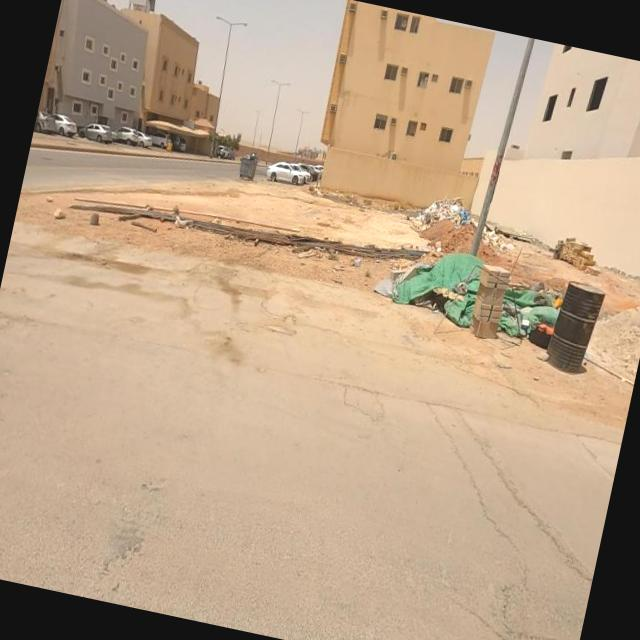debris: (306, 198, 546, 374), (450, 220, 618, 388), (372, 130, 520, 282), (252, 188, 408, 316), (144, 180, 230, 265), (463, 194, 530, 274)
